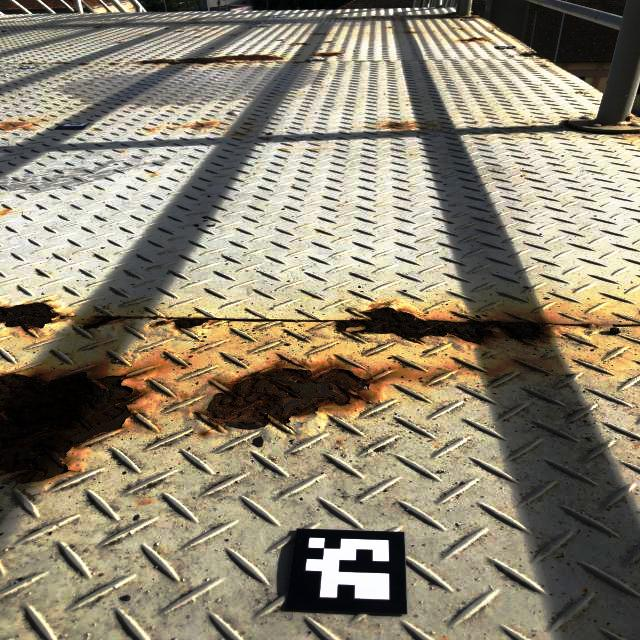Corrosion: (0, 367, 148, 486), (195, 358, 407, 437), (333, 300, 559, 346), (0, 298, 64, 332), (136, 53, 284, 66), (81, 314, 138, 329), (150, 318, 220, 330), (521, 51, 549, 61), (0, 121, 29, 130), (187, 122, 215, 130), (459, 37, 488, 44), (386, 122, 414, 129), (580, 323, 599, 330), (456, 14, 478, 19), (313, 52, 340, 56), (291, 42, 309, 47), (146, 315, 158, 320), (54, 61, 68, 64), (626, 116, 632, 121), (408, 30, 418, 33), (324, 41, 332, 44), (26, 62, 37, 64)
